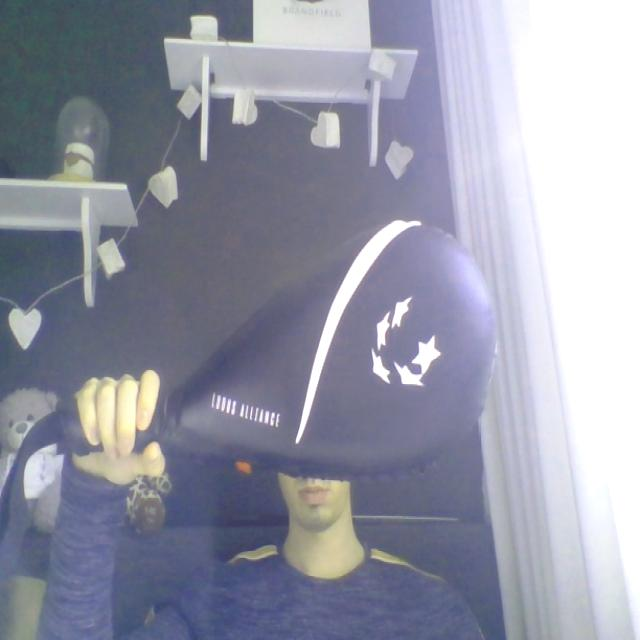paddle: (59, 213, 506, 473)
